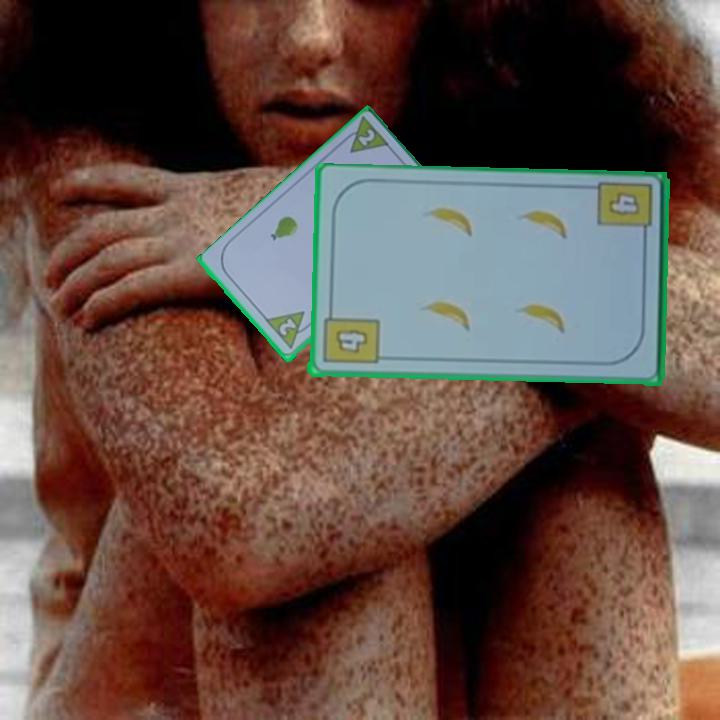2p: (275, 315, 299, 339), (354, 126, 378, 150)
4b: (594, 179, 656, 245), (319, 304, 381, 367)
